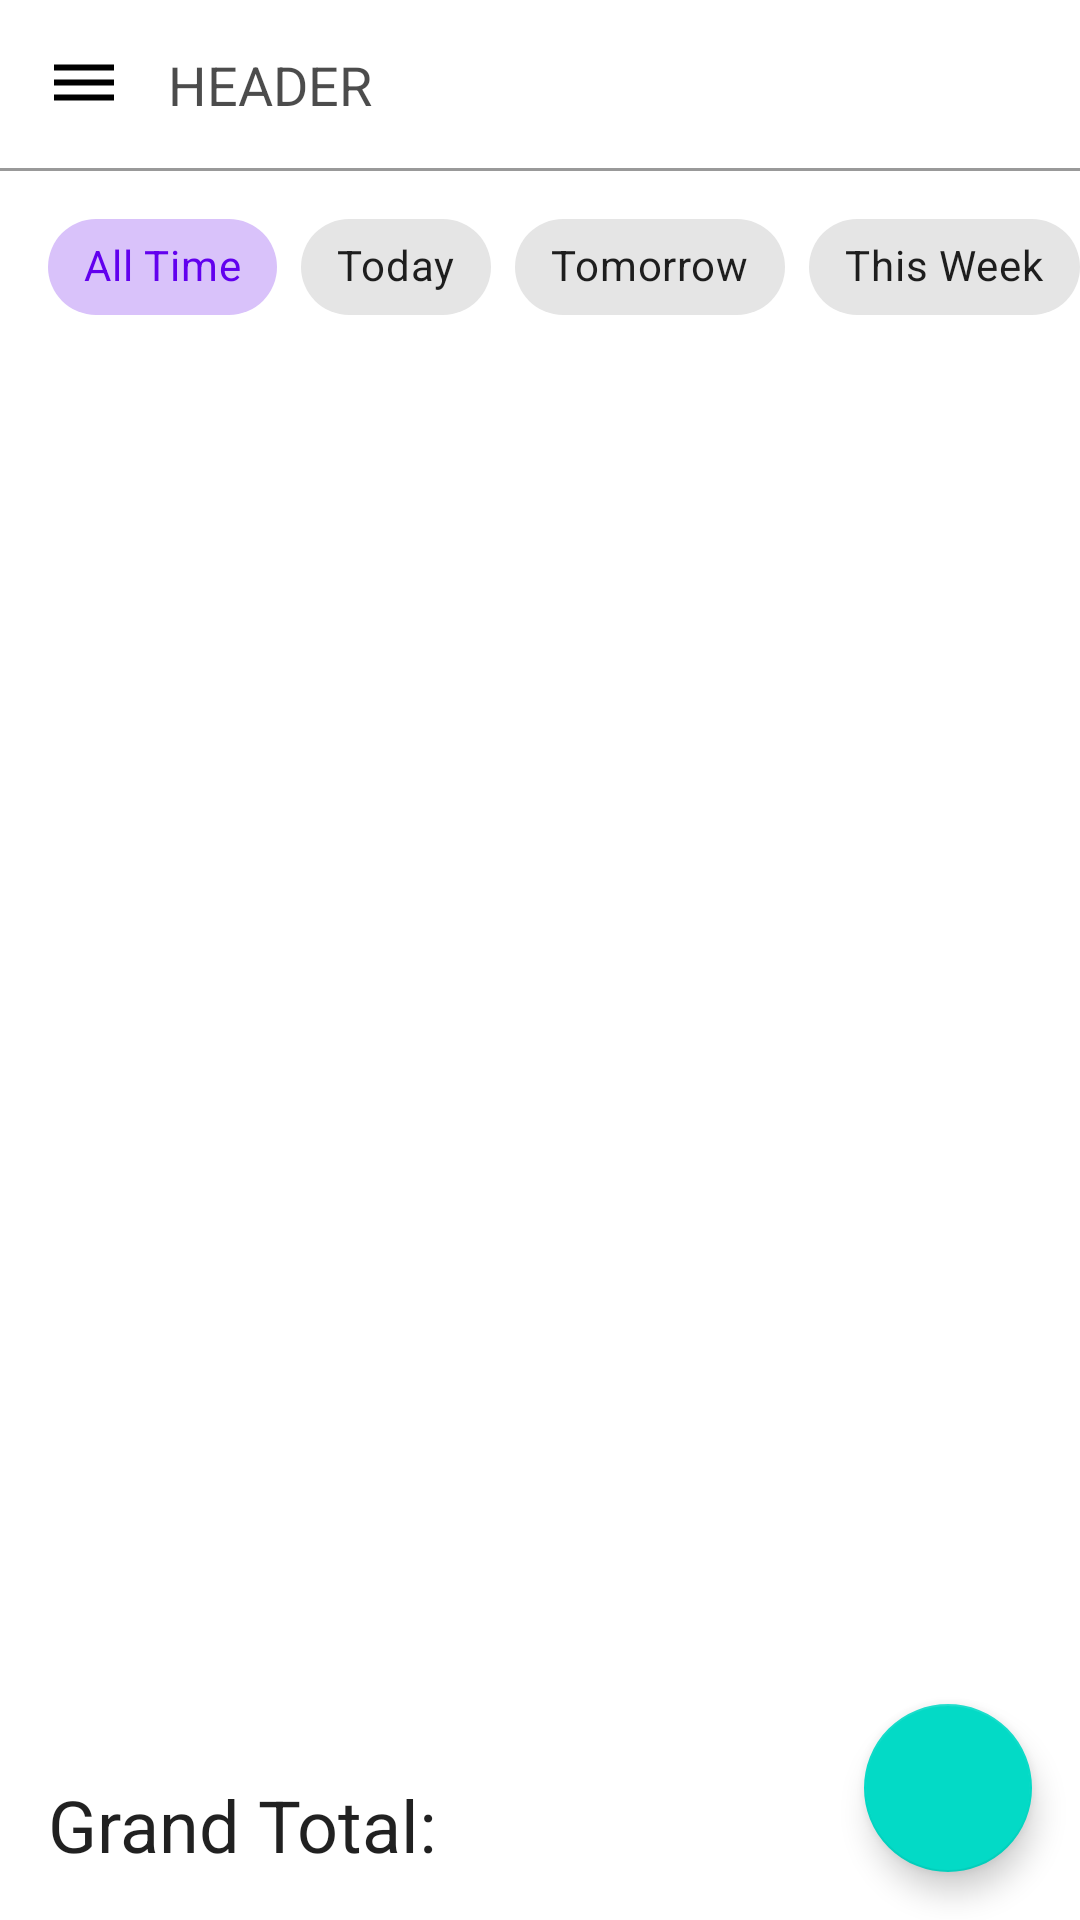

Named icons in this screenshot (1080px×1920px) and their bounding boxes, (x1, y1, x2, y2):
menu: (54, 64, 114, 101)
